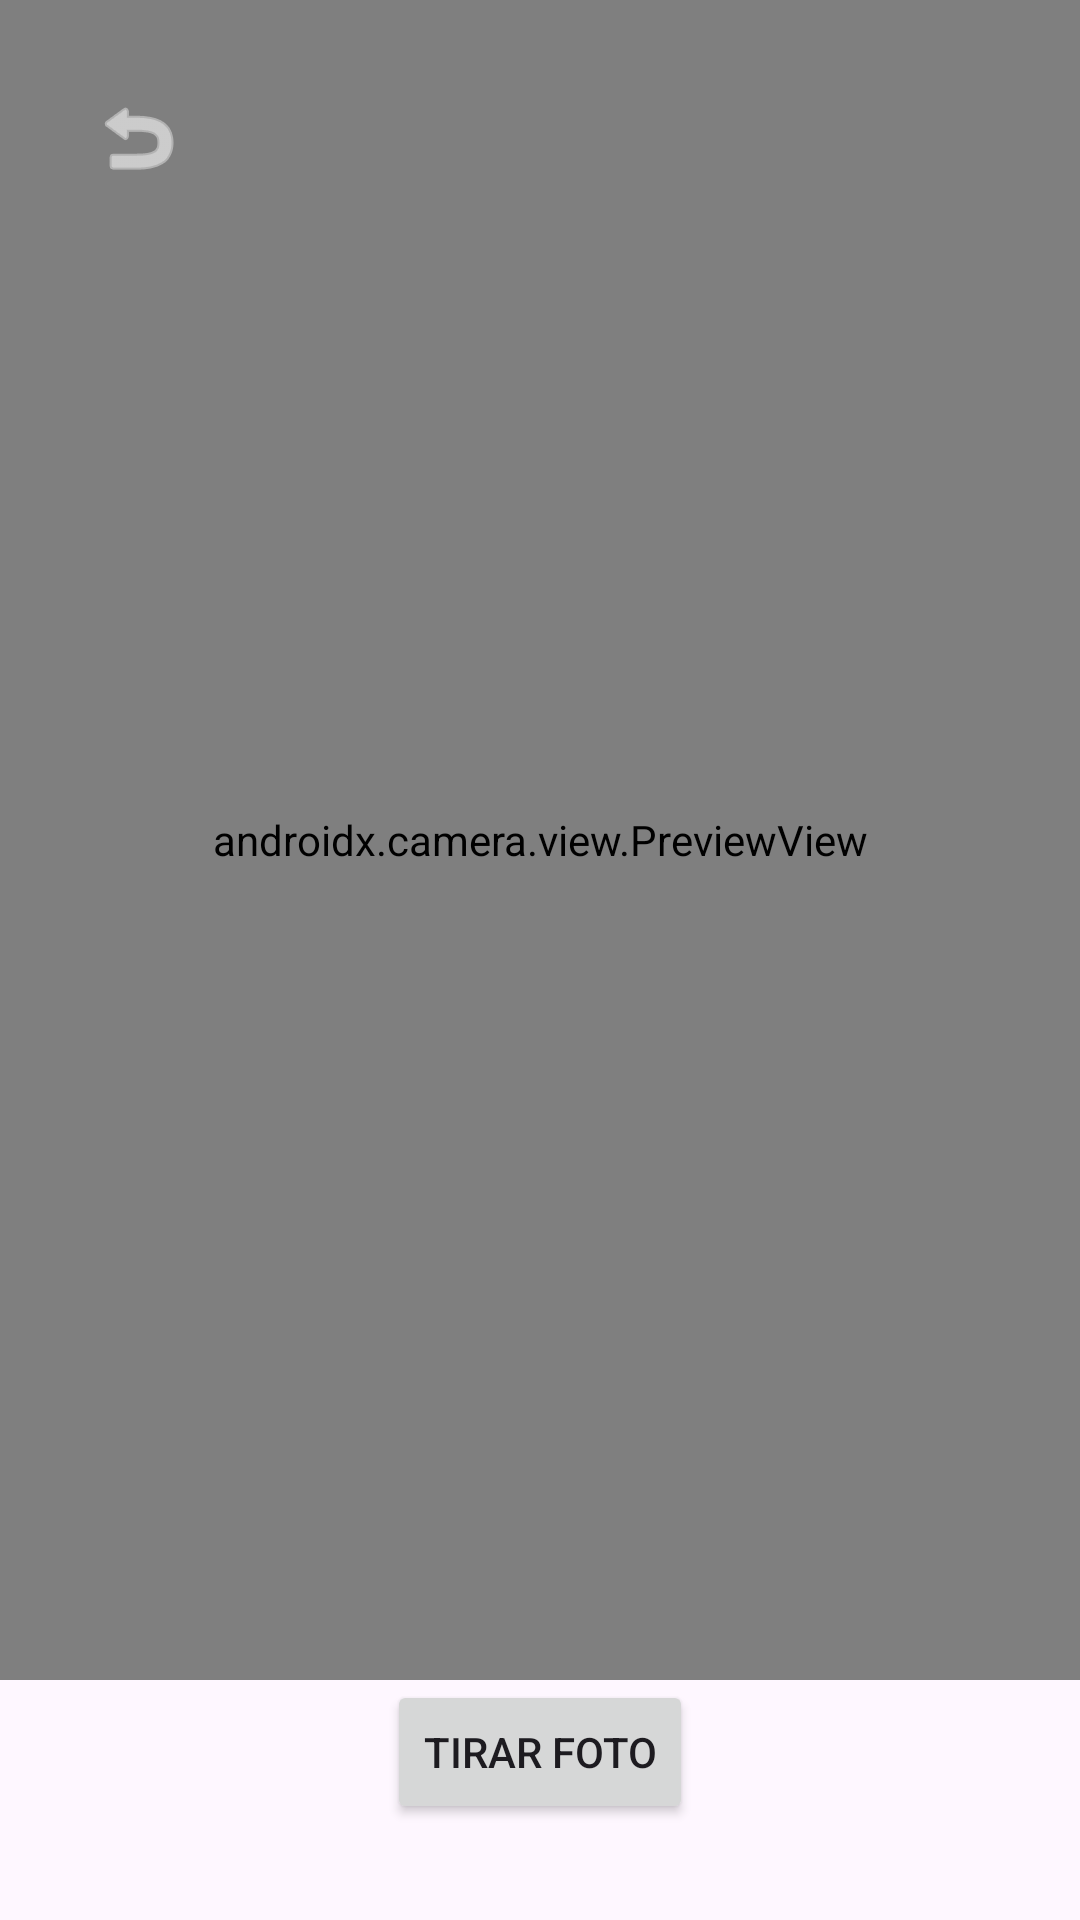

Named icons in this screenshot (1080w x 1920h) and their bounding boxes, detection(x1, y1, x2, y2):
Voltar: detection(105, 108, 174, 170)
